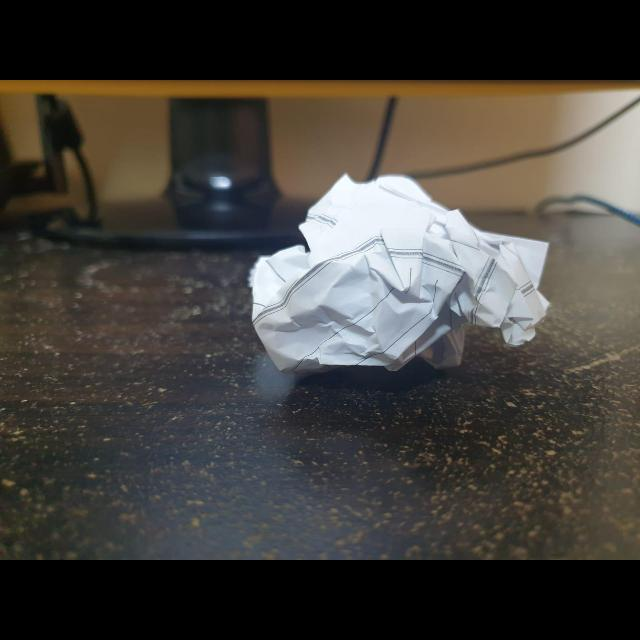scrap_paper: (248, 172, 552, 382)
